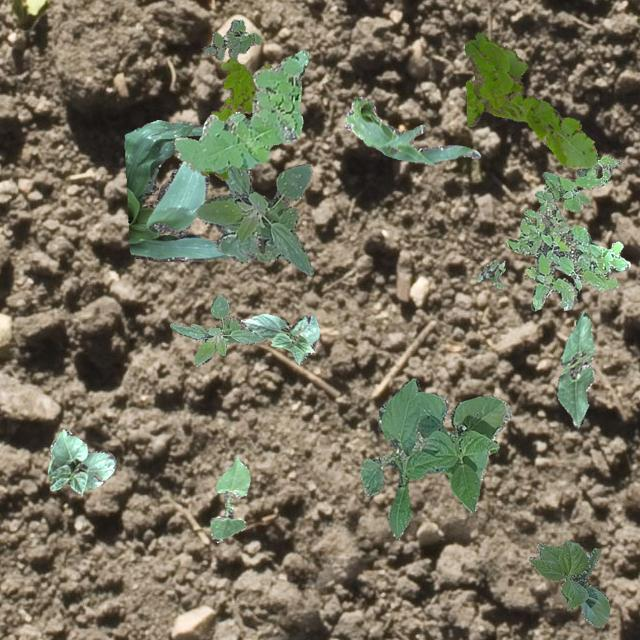crop: (358, 377, 511, 538), (124, 118, 228, 260), (195, 163, 312, 274), (344, 96, 479, 164), (528, 540, 608, 626), (46, 428, 116, 494), (556, 310, 594, 426), (240, 312, 318, 364), (210, 456, 248, 542)
weed: (464, 31, 596, 168), (172, 48, 308, 172), (504, 216, 630, 310), (522, 154, 620, 236), (168, 294, 266, 364), (210, 56, 270, 120), (202, 18, 260, 59), (476, 258, 504, 288), (200, 170, 227, 180)
